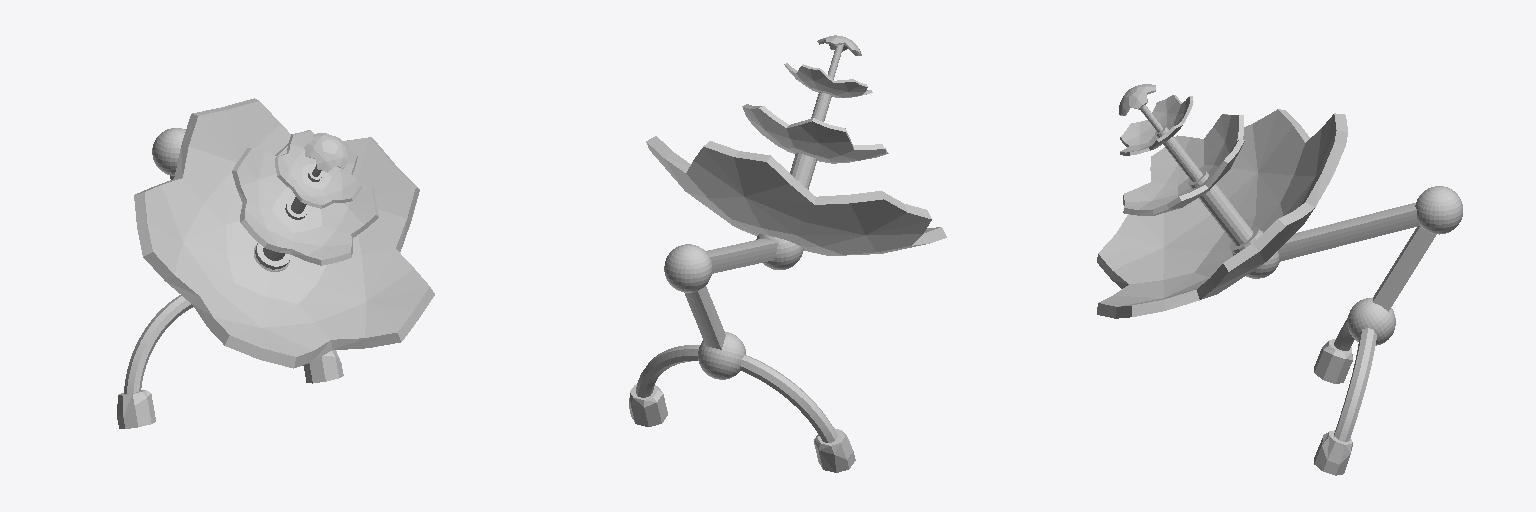
The model's file is spaceship_antenna.obj.
3 renders of one model, left to right at view 1: azimuth 30°, elevation 25°; view 2: azimuth 150°, elevation 25°; view 3: azimuth 270°, elevation 25°, orthographic.
Parts seen in each view (by area): view 1: antenna4_Sphere.009; view 2: antenna4_Sphere.009; view 3: antenna4_Sphere.009.
Part boxes in pixels (x1,y1,x2,y2): antenna4_Sphere.009: (117, 98, 434, 428); antenna4_Sphere.009: (629, 35, 946, 472); antenna4_Sphere.009: (1097, 84, 1462, 475).
Size of the model in its own units: 8.19 by 9.56 by 9.39.